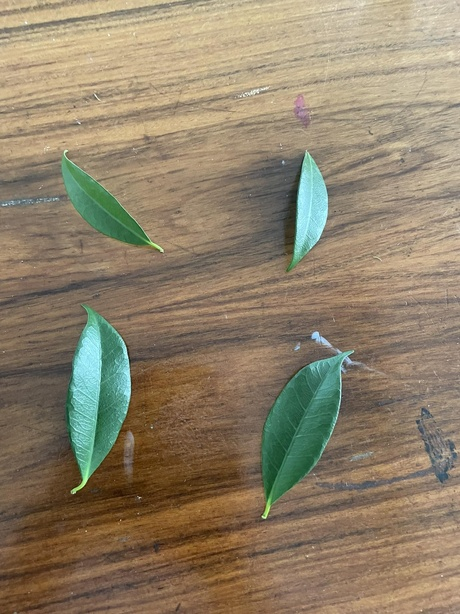leaf: (65, 290, 141, 503), (258, 345, 350, 510), (52, 145, 163, 254), (279, 147, 336, 275)
